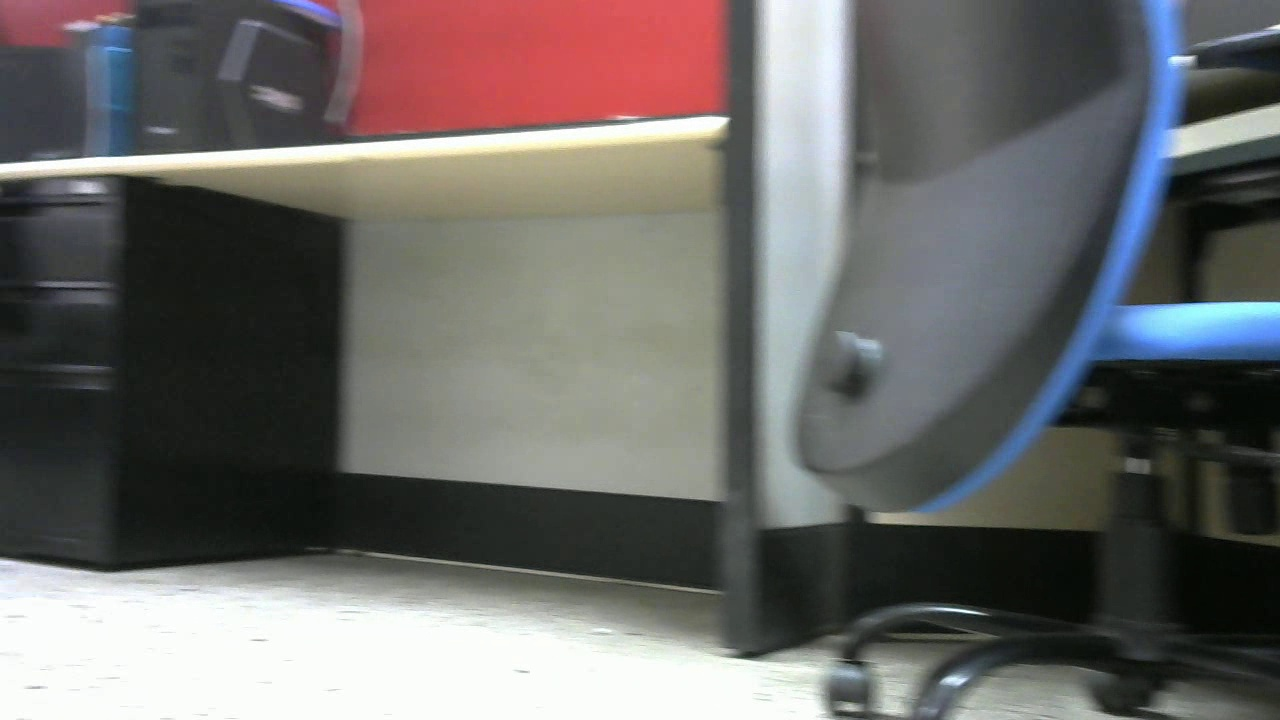chair: (781, 1, 1280, 720)
